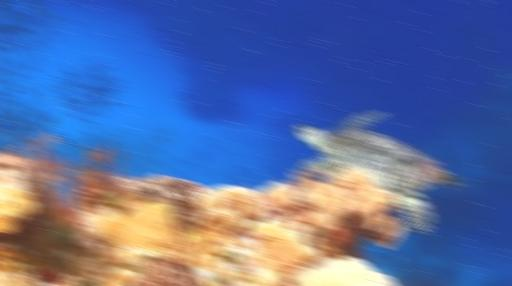Fish: (295, 111, 460, 232)
